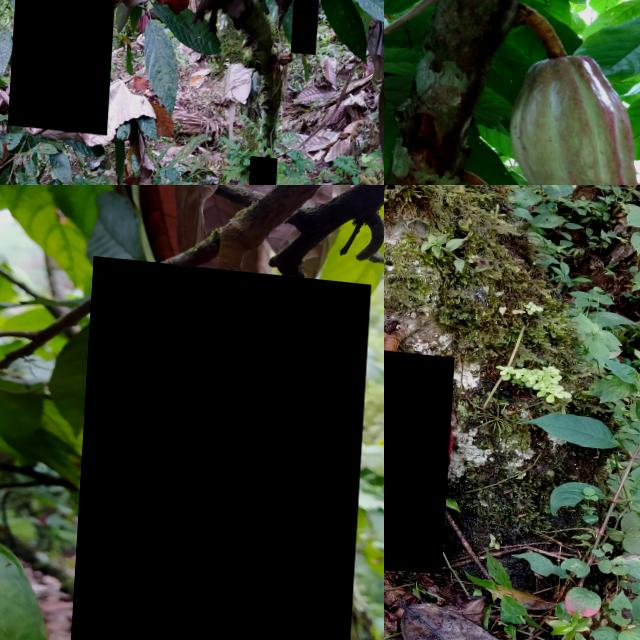Fitoftora: (74, 251, 373, 640), (384, 337, 457, 566), (13, 0, 127, 127), (295, 0, 323, 42)
Sana: (504, 35, 640, 185), (253, 144, 282, 185)
